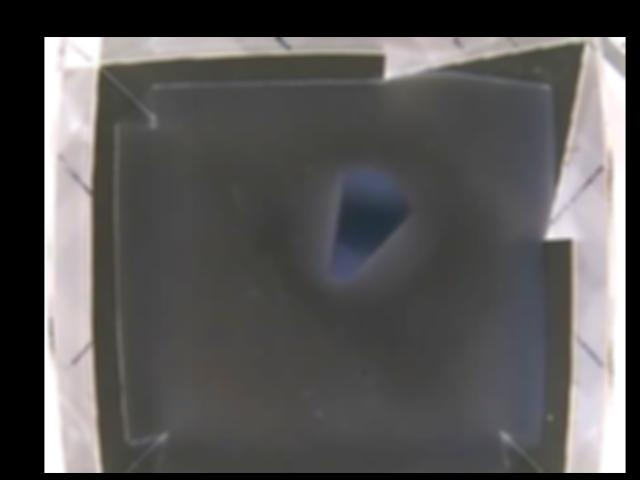Mooli: (325, 166, 410, 284)
